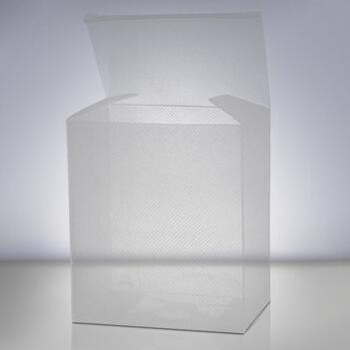PlasticBox: (61, 9, 275, 339)
